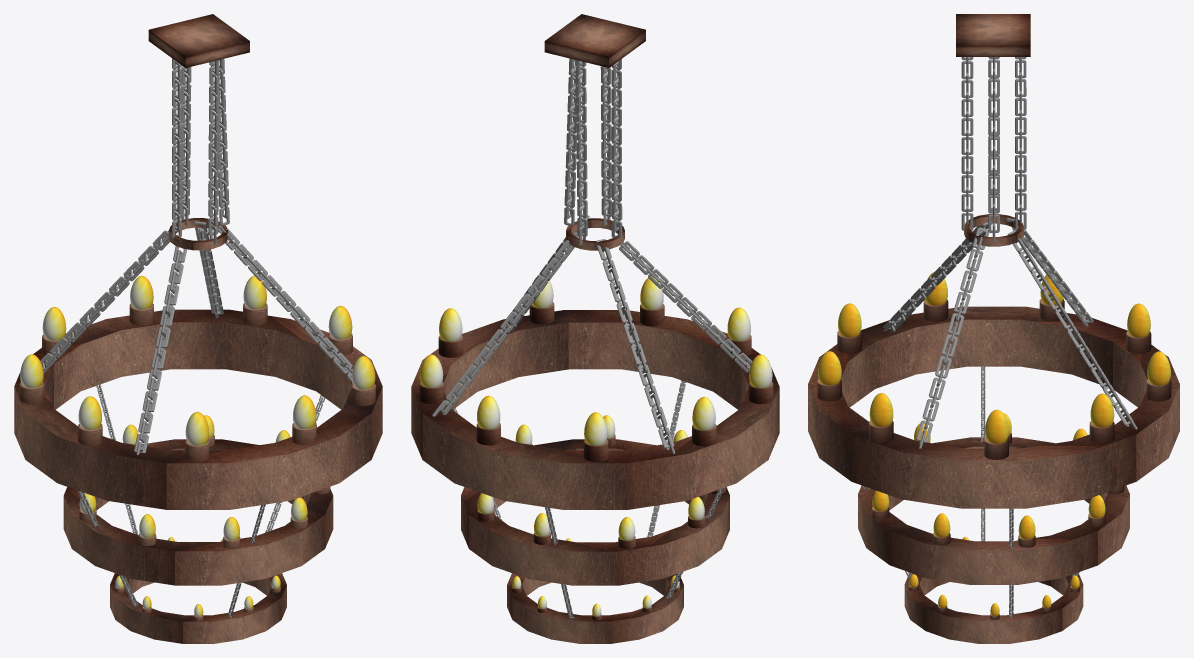
Rendered from Candelabro.FBX.
3 views of the same model, side by side, from view 1: azimuth 30°, elevation 25°; view 2: azimuth 150°, elevation 25°; view 3: azimuth 270°, elevation 25° (orthographic).
Visible parts, largest first — view 1: anillo 1, anillo 002, anillo 003, Sosten, conexion, bombilla010, bombilla004, bombilla005, bombilla006, bombilla008, bombilla007, bombilla012 (+2 smaller); view 2: anillo 1, anillo 002, anillo 003, Sosten, conexion, bombilla005, bombilla008, bombilla004, bombilla010, bombilla012, bombilla011, bombilla009 (+1 smaller); view 3: anillo 1, anillo 002, anillo 003, Sosten, conexion, bombilla009, bombilla006, bombilla007, bombilla010, bombilla005, bombilla008, bombilla011.
Part boxes in pixels (bbox=[...]): anillo 1: bbox=[14, 309, 382, 509]; anillo 002: bbox=[63, 439, 333, 585]; anillo 003: bbox=[110, 573, 286, 643]; Sosten: bbox=[148, 14, 249, 67]; conexion: bbox=[168, 218, 228, 250]; bombilla010: bbox=[130, 275, 153, 309]; bombilla004: bbox=[78, 396, 101, 429]; bombilla005: bbox=[185, 411, 209, 445]; bombilla006: bbox=[293, 395, 316, 428]; bombilla008: bbox=[328, 305, 352, 339]; bombilla007: bbox=[352, 356, 375, 389]; bombilla012: bbox=[20, 354, 43, 387]; anillo 1: bbox=[411, 310, 779, 509]; anillo 002: bbox=[461, 439, 729, 585]; anillo 003: bbox=[507, 573, 683, 643]; Sosten: bbox=[544, 14, 645, 67]; conexion: bbox=[566, 218, 624, 250]; bombilla005: bbox=[727, 307, 750, 341]; bombilla008: bbox=[439, 308, 462, 341]; bombilla004: bbox=[749, 354, 772, 388]; bombilla010: bbox=[477, 395, 500, 429]; bombilla012: bbox=[692, 396, 715, 430]; bombilla011: bbox=[584, 412, 607, 445]; bombilla009: bbox=[419, 354, 443, 388]; anillo 1: bbox=[808, 306, 1179, 508]; anillo 002: bbox=[858, 437, 1129, 584]; anillo 003: bbox=[904, 572, 1083, 643]; Sosten: bbox=[956, 14, 1030, 56]; conexion: bbox=[964, 214, 1023, 246]; bombilla009: bbox=[1090, 393, 1114, 427]; bombilla006: bbox=[818, 351, 841, 385]; bombilla007: bbox=[869, 393, 893, 426]; bombilla010: bbox=[1147, 351, 1170, 385]; bombilla005: bbox=[838, 303, 861, 337]; bombilla008: bbox=[985, 409, 1008, 443]; bombilla011: bbox=[1127, 303, 1150, 337].
Size of the model in its own units: 181 by 314 by 183.
